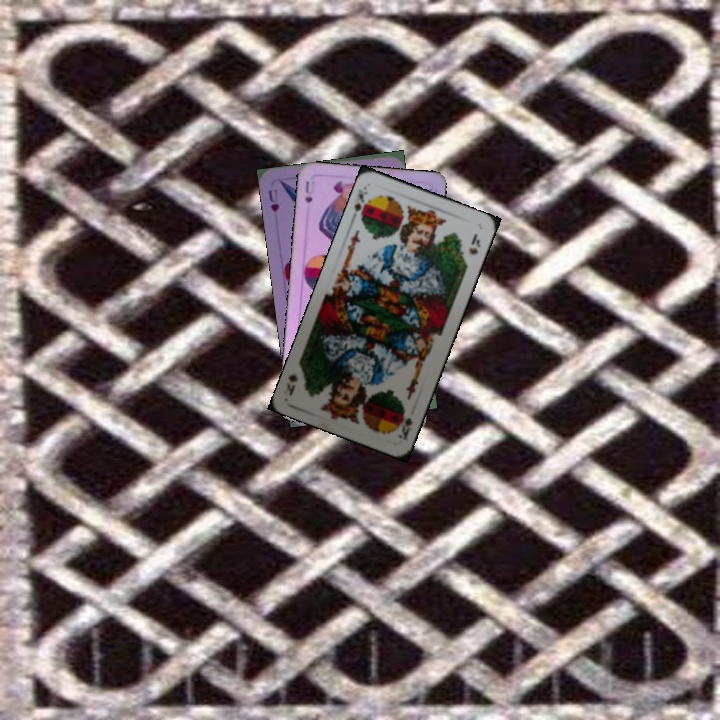HU: (264, 185, 282, 215)
SK: (348, 183, 373, 225), (393, 405, 415, 442)
SU: (301, 177, 315, 206)
